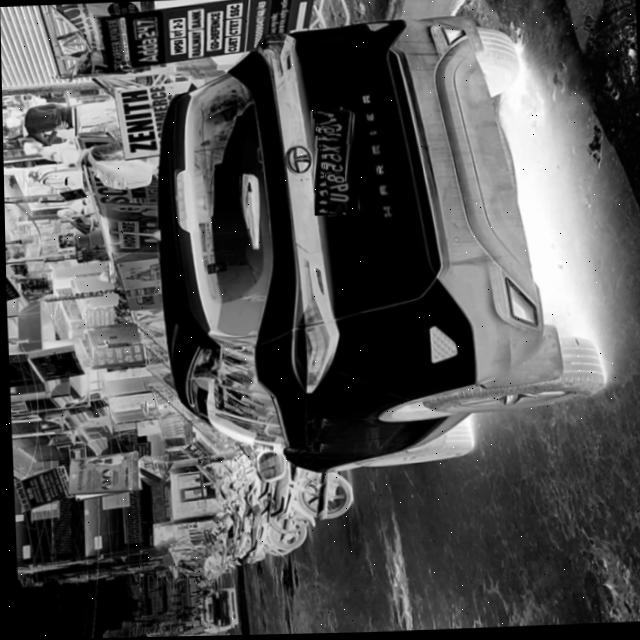1: (317, 118, 336, 127), (315, 110, 335, 118), (319, 136, 339, 143)
5: (323, 164, 343, 172)
6: (317, 127, 337, 135)
8: (325, 173, 344, 183)
B: (322, 154, 342, 163)
IND: (327, 201, 345, 213)
Indian_registered: (313, 110, 352, 215)
P: (327, 182, 347, 193)
U: (327, 191, 349, 203)
X: (320, 144, 340, 154)
